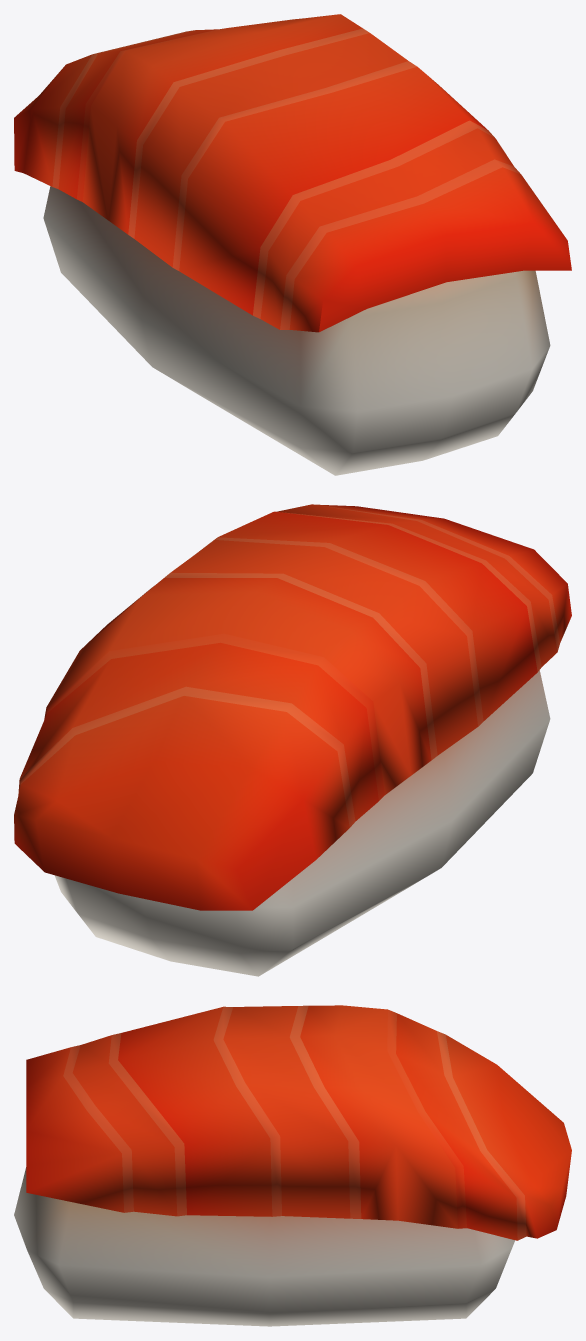
File: Sashimi_Regular.fbx
3 views of the same model, one above another, from view 1: azimuth 30°, elevation 25°; view 2: azimuth 150°, elevation 25°; view 3: azimuth 270°, elevation 25° (orthographic). The views are drawn at different scales.
Parts seen in each view (by area): view 1: Sashimi_Regular; view 2: Sashimi_Regular; view 3: Sashimi_Regular.
Part boxes in pixels (x1,y1,x2,y2): Sashimi_Regular: [14, 14, 571, 475]; Sashimi_Regular: [14, 504, 571, 976]; Sashimi_Regular: [14, 1005, 571, 1326].
Bounding box in the file's own units: 16.63 × 15.64 × 31.53.
